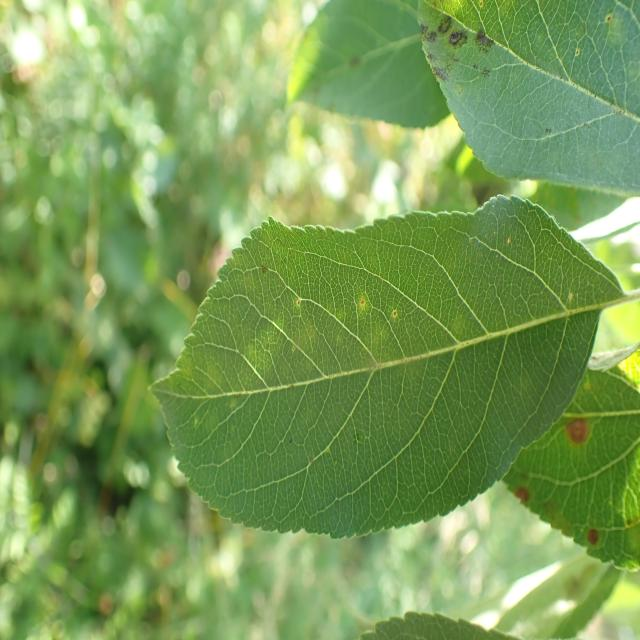Black Rot: (559, 417, 599, 459), (512, 479, 537, 519), (581, 519, 604, 561)
scab: (187, 248, 578, 406), (413, 0, 516, 126)
